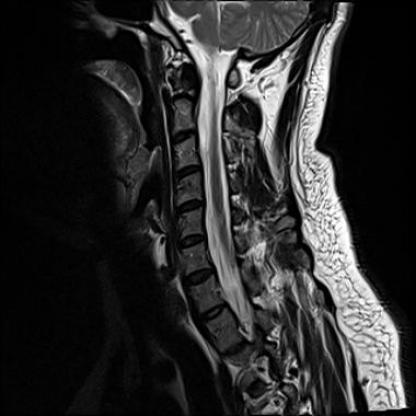Disc Bulgerotation: (184, 263, 215, 292), (174, 160, 202, 181)
